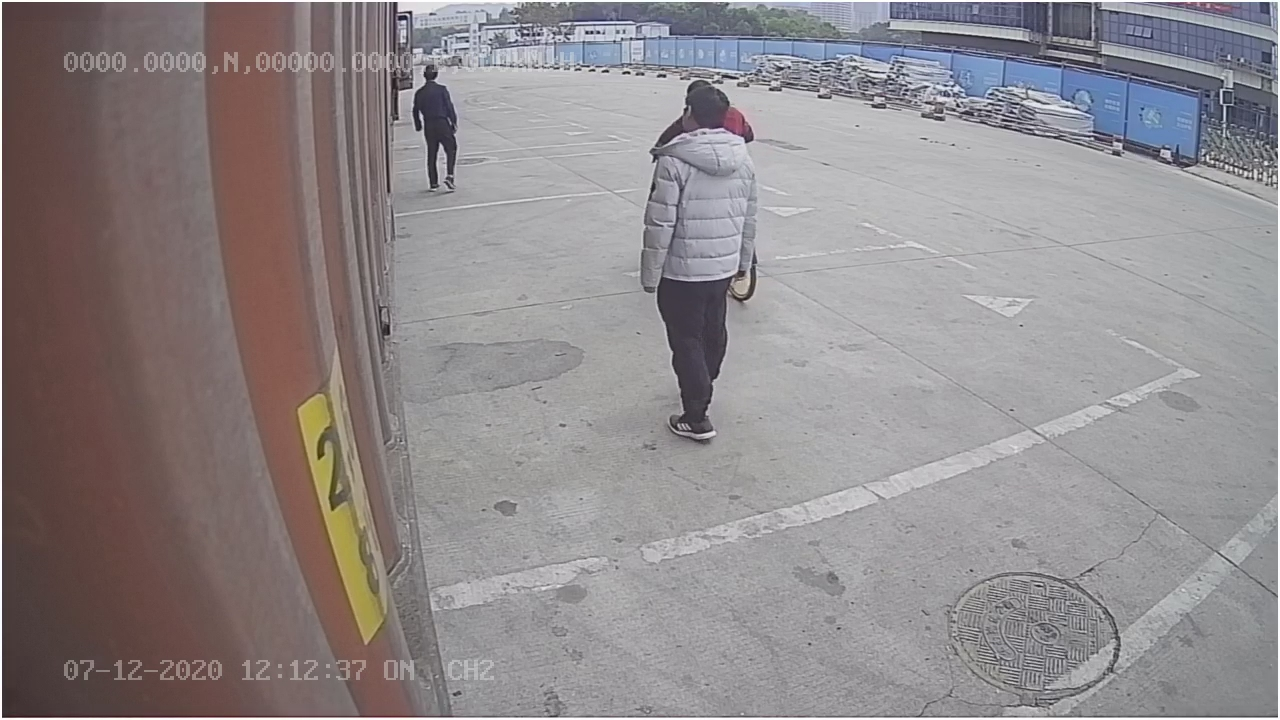person: (639, 85, 756, 440)
